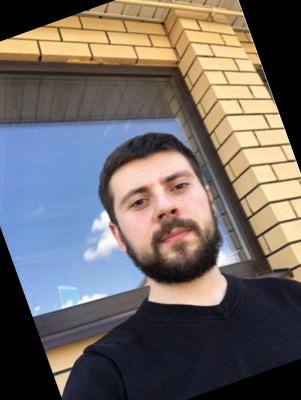without_mask: (106, 158, 234, 299)
